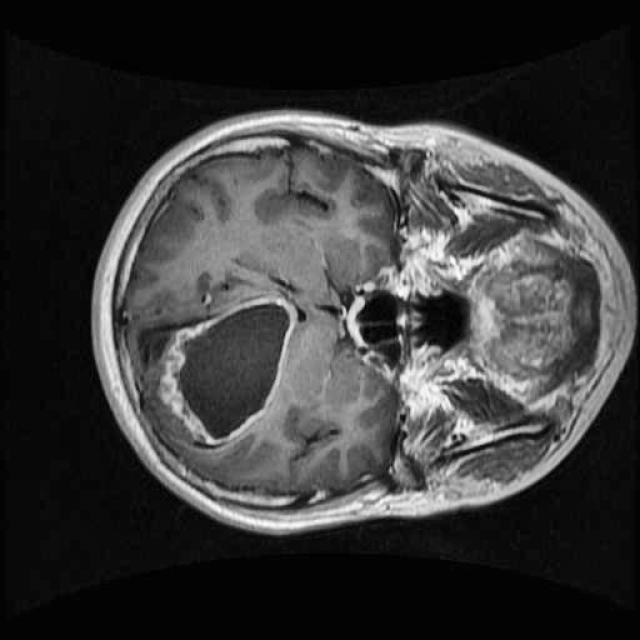Tumor: (146, 283, 303, 459)
